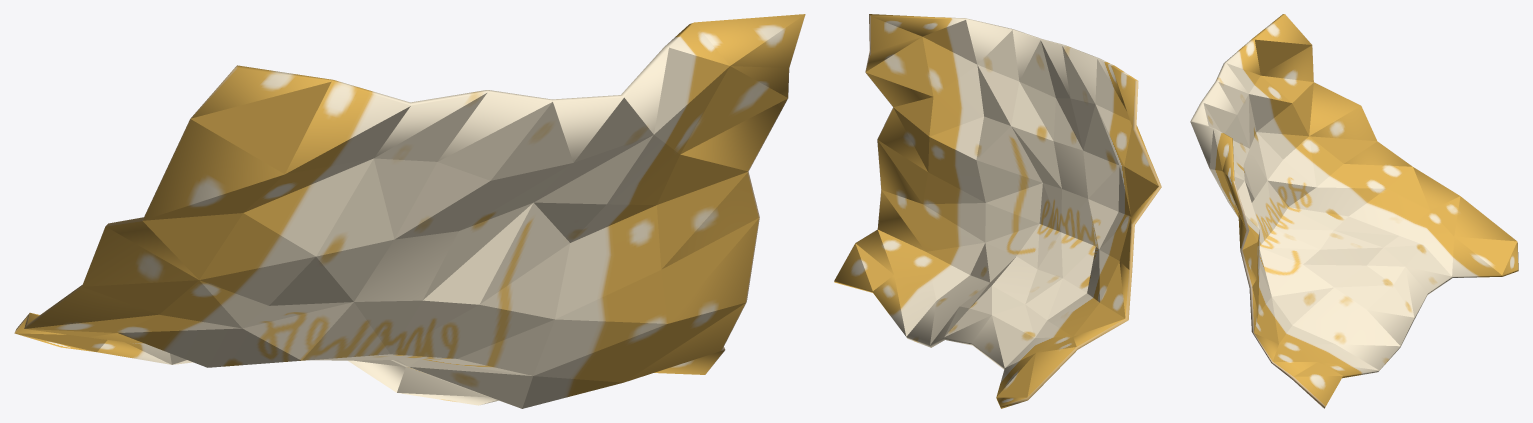
The model's file is Lemones 1.fbx.
The picture shows the model from 3 angles, left to right: view 1: azimuth 30°, elevation 25°; view 2: azimuth 150°, elevation 25°; view 3: azimuth 270°, elevation 25°; orthographic projection. The views are drawn at different scales.
Parts seen in each view (by area): view 1: Plane.001; view 2: Plane.001; view 3: Plane.001.
Boxes of the visible parts, x1=… form: Plane.001: x1=14, y1=14, x2=805, y2=408; Plane.001: x1=834, y1=14, x2=1161, y2=408; Plane.001: x1=1190, y1=14, x2=1518, y2=408.
Size of the model in its own units: 536 by 395 by 436.
